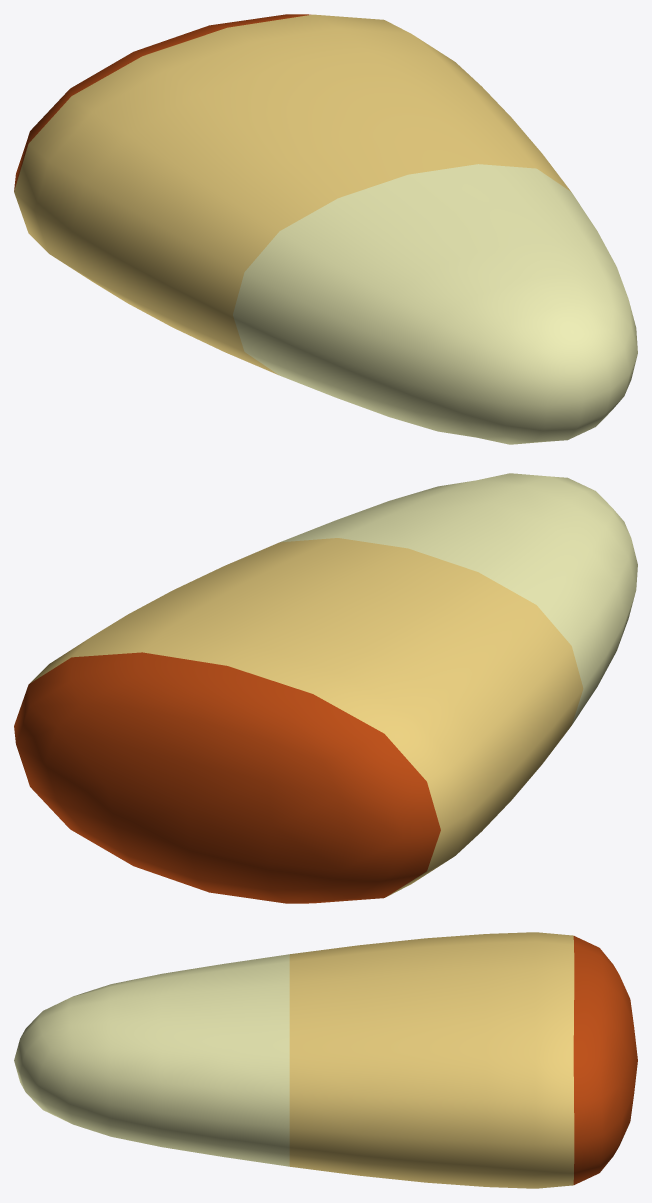
The model's file is mais.fbx.
3 renders of one model, top to bottom at view 1: azimuth 30°, elevation 25°; view 2: azimuth 150°, elevation 25°; view 3: azimuth 270°, elevation 25°, orthographic. The views are drawn at different scales.
Parts seen in each view (by area): view 1: Cube; view 2: Cube; view 3: Cube.
Part boxes in pixels (<box>): Cube: <box>14,14,637,444</box>; Cube: <box>14,473,637,903</box>; Cube: <box>14,932,637,1188</box>.
Size of the model in its own units: 184 by 93.75 by 290.
